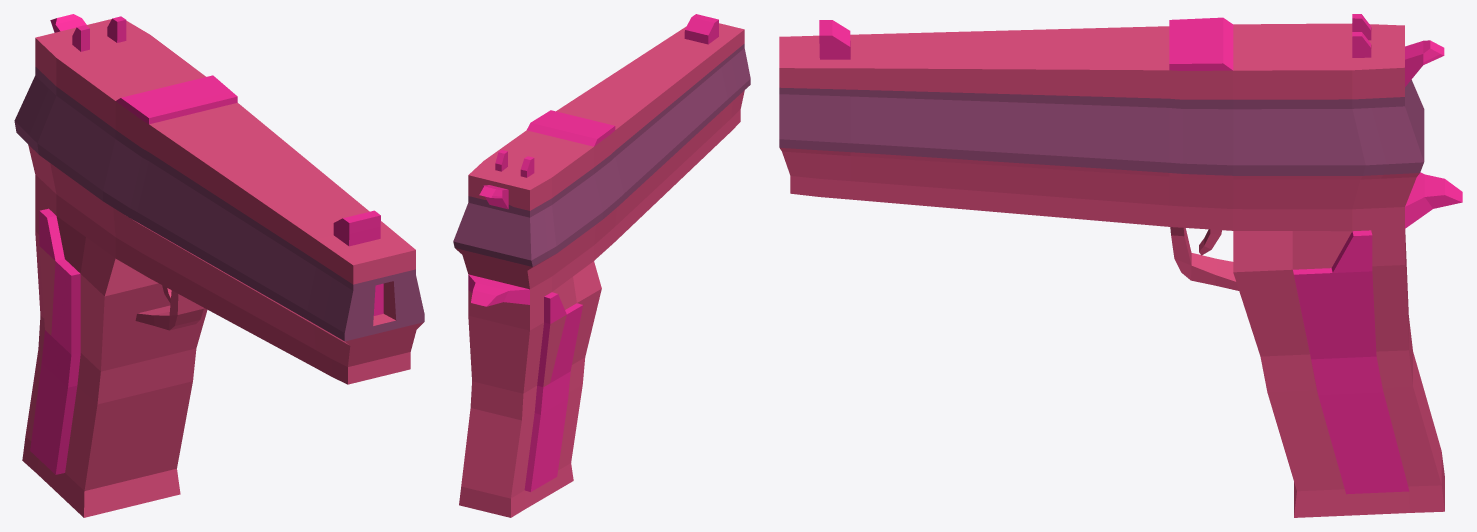
Rendered from Desert Eagle.fbx.
3 views of the same model, side by side, from view 1: azimuth 30°, elevation 25°; view 2: azimuth 150°, elevation 25°; view 3: azimuth 270°, elevation 25° (orthographic). The views are drawn at different scales.
Visible parts, largest first — view 1: Gun; view 2: Gun; view 3: Gun.
Part boxes in pixels (left/top/right/bottom): Gun: left=14, top=14, right=424, bottom=517; Gun: left=453, top=14, right=750, bottom=517; Gun: left=779, top=14, right=1462, bottom=517.
Bounding box in the file's own units: 0.0739 × 0.2642 × 0.3489.
